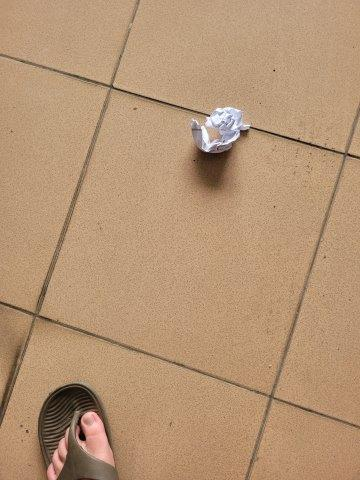kertas: (189, 106, 253, 158)
